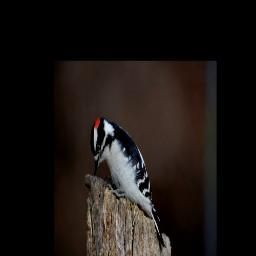Woodpecker: (89, 115, 167, 251)
